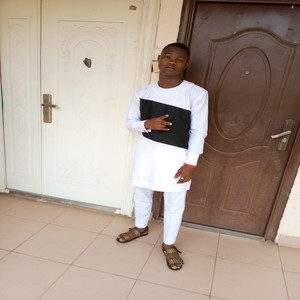Fulokoja_male_student: (129, 46, 202, 263)
